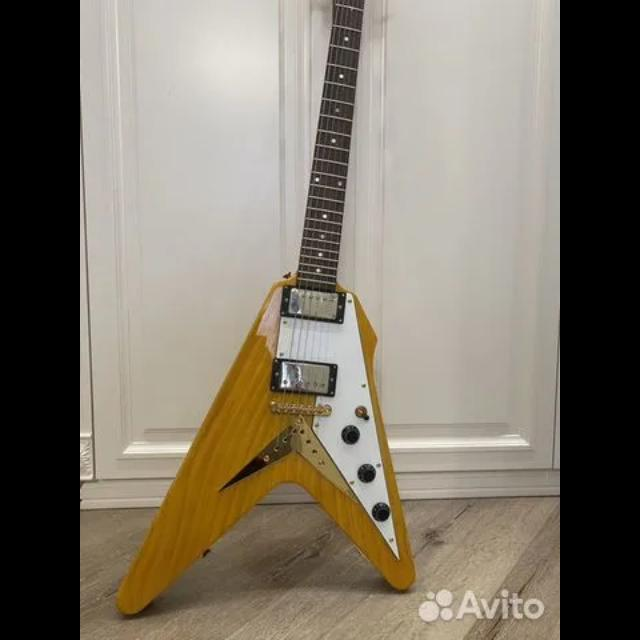Electric-Guitar: (117, 0, 417, 616)
